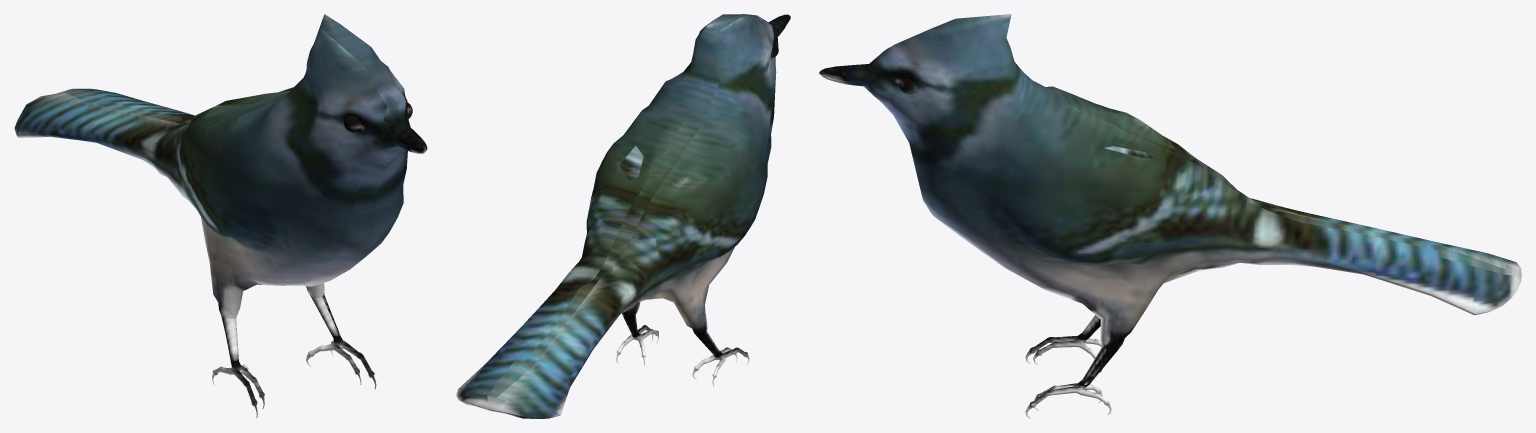
File: turnbird.dae
The picture shows the model from 3 angles, left to right: view 1: azimuth 30°, elevation 25°; view 2: azimuth 150°, elevation 25°; view 3: azimuth 270°, elevation 25°; orthographic projection. The views are drawn at different scales.
Visible parts, largest first — view 1: bluj_body; view 2: bluj_body; view 3: bluj_body.
Boxes of the visible parts, bbox=[...] form: bluj_body: bbox=[14, 14, 427, 418]; bluj_body: bbox=[456, 14, 790, 418]; bluj_body: bbox=[819, 14, 1521, 418].
Size of the model in its own units: 0.3958 by 1.53 by 0.9104.
